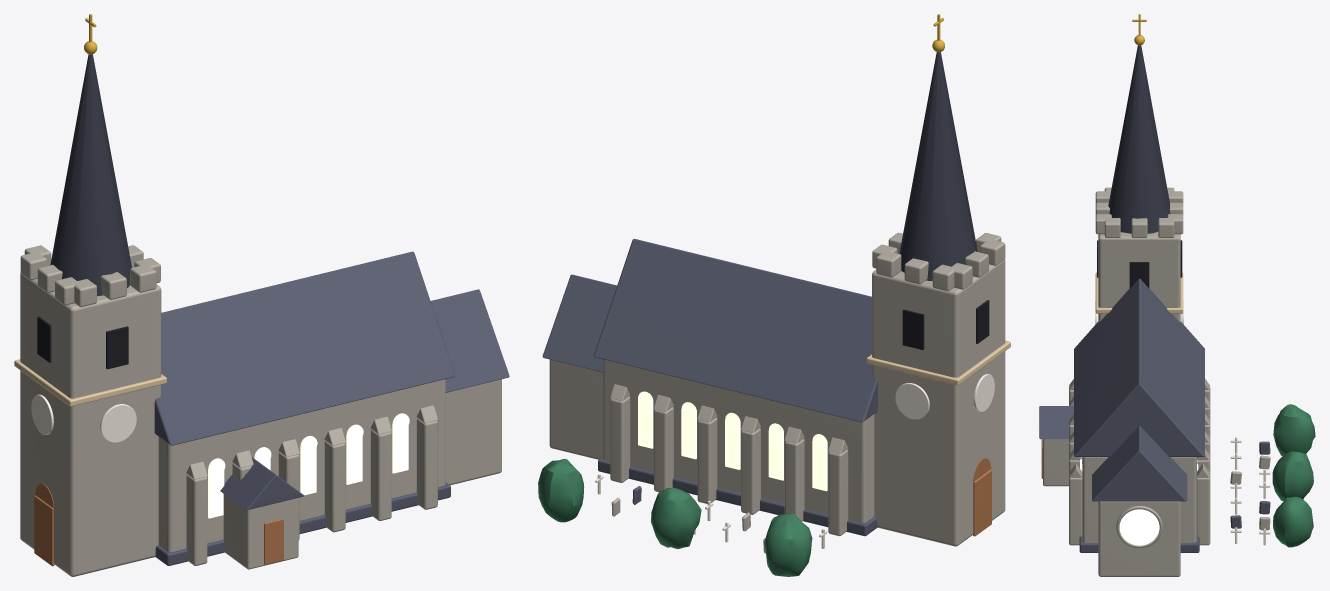
The model's file is village_church.glb.
3 renders of one model, left to right at view 1: azimuth 30°, elevation 25°; view 2: azimuth 150°, elevation 25°; view 3: azimuth 270°, elevation 25°, orthographic. The views are drawn at different scales.
Visible parts, largest first — view 1: village_church; view 2: village_church; view 3: village_church.
Boxes of the visible parts, x1,y1,x2,y2 form: village_church: [14, 14, 509, 576]; village_church: [538, 14, 1010, 576]; village_church: [1039, 14, 1315, 576].
Bounding box in the file's own units: 22.16 × 25.7 × 15.44.
Materials: 1 (1 with a texture image).
